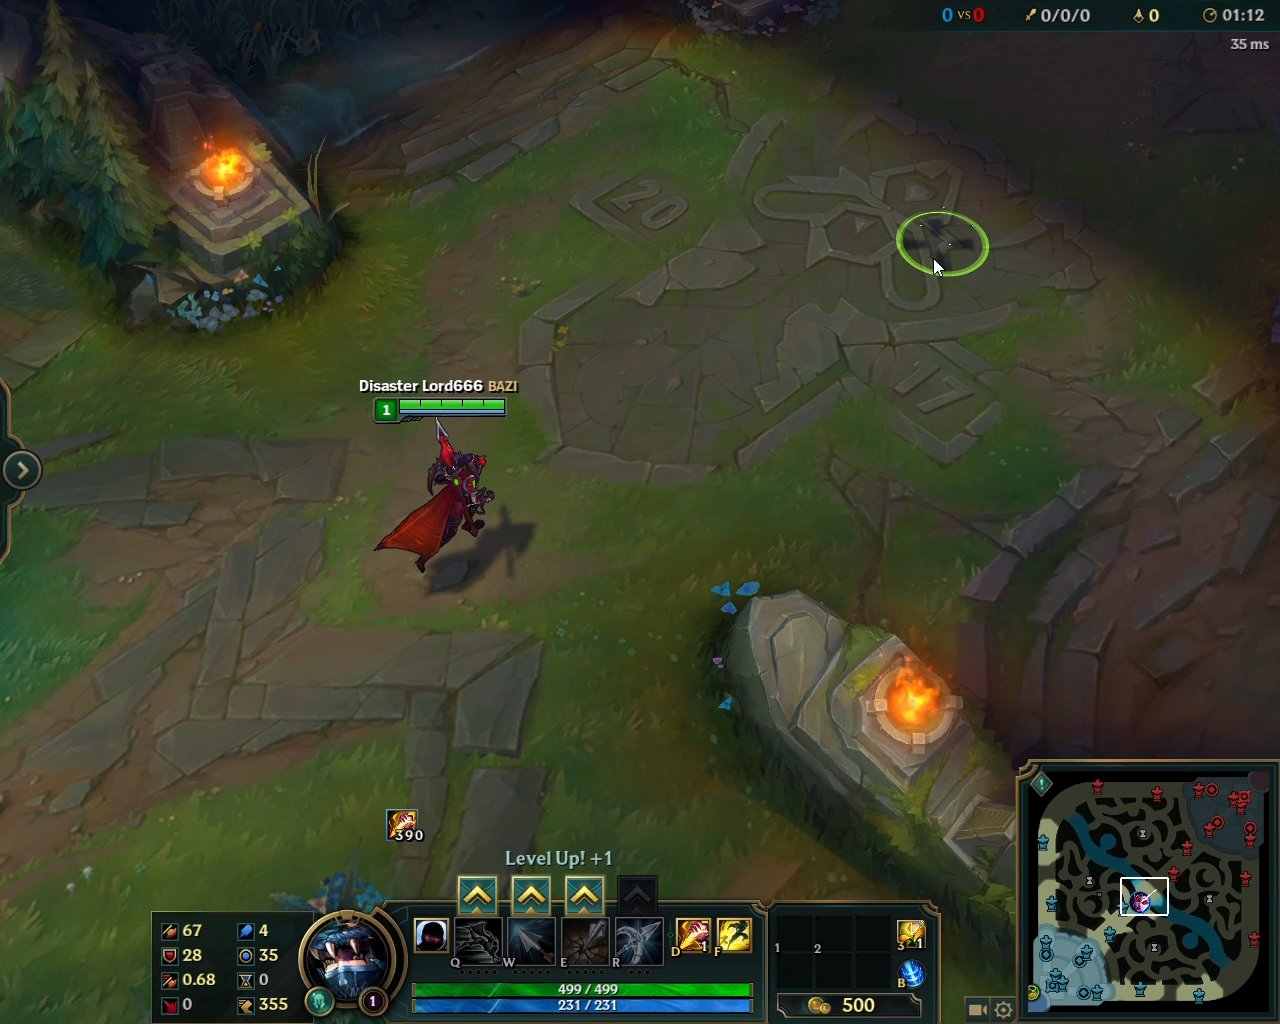Vayne: (372, 418, 508, 585)
